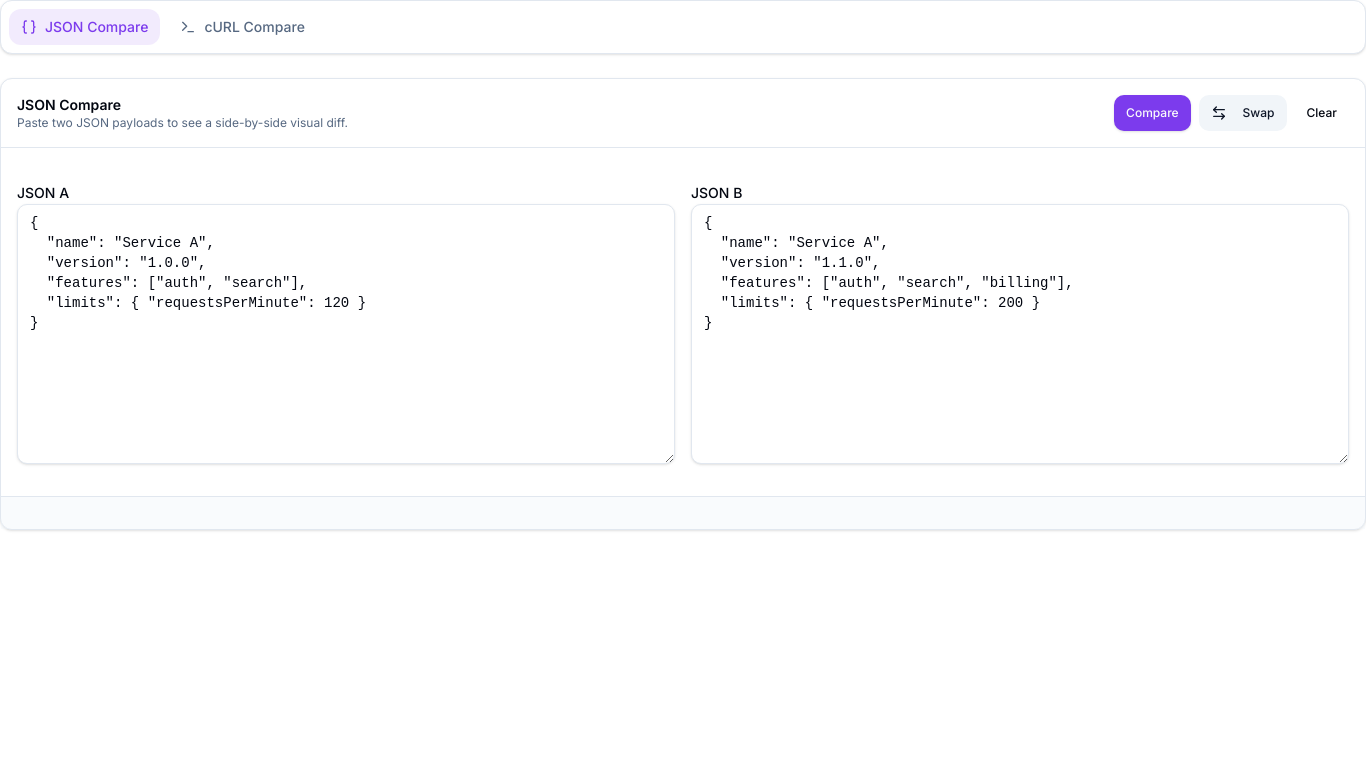
Test: CompareTools › clears JSON inputs
The width and height of the screenshot is (1366, 768).
What coordinates should you click on to do the following:
click the button "Clear"
I would click on:
 (1322, 113)
Its box is [1294,95,1349,131].
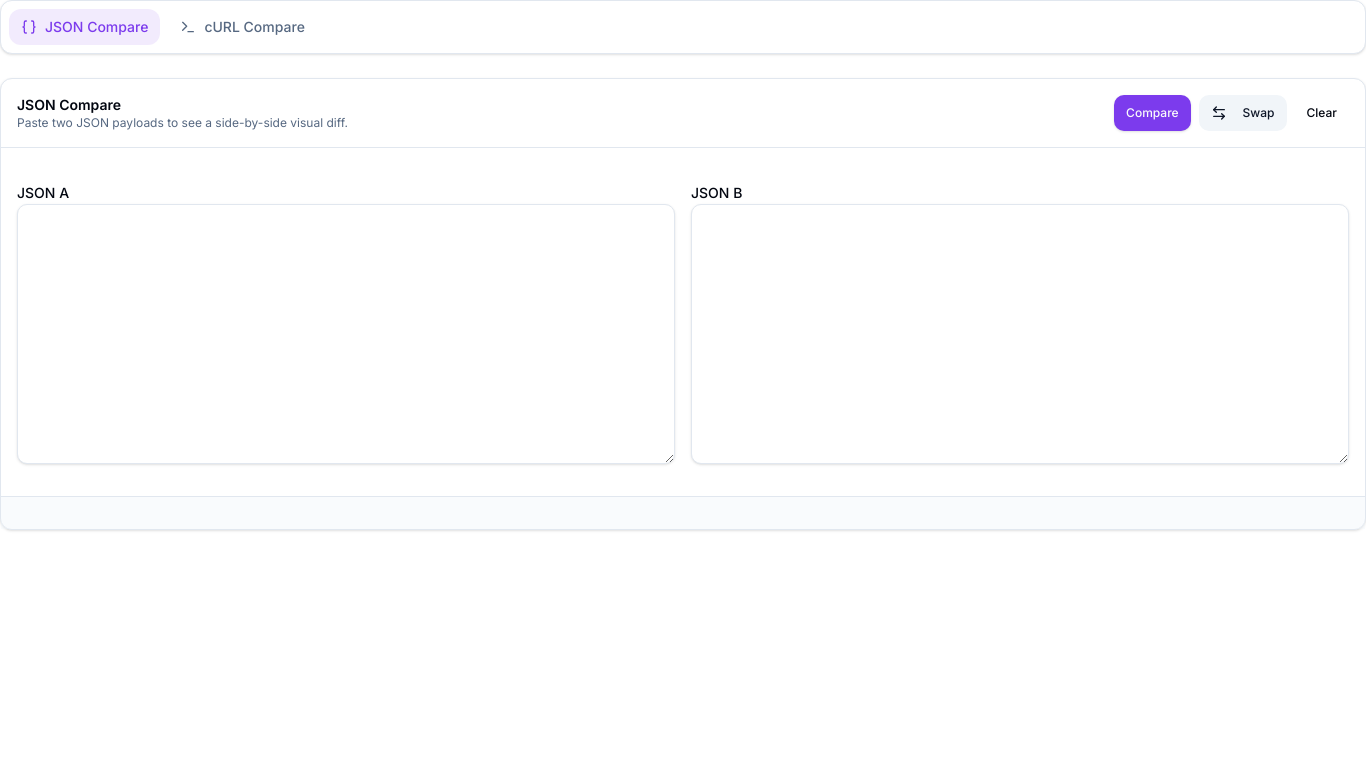
Now the text box below "JSON A" is empty, box [17,204,675,464]
Now the text box below "JSON B" is empty, box [691,204,1349,464]
